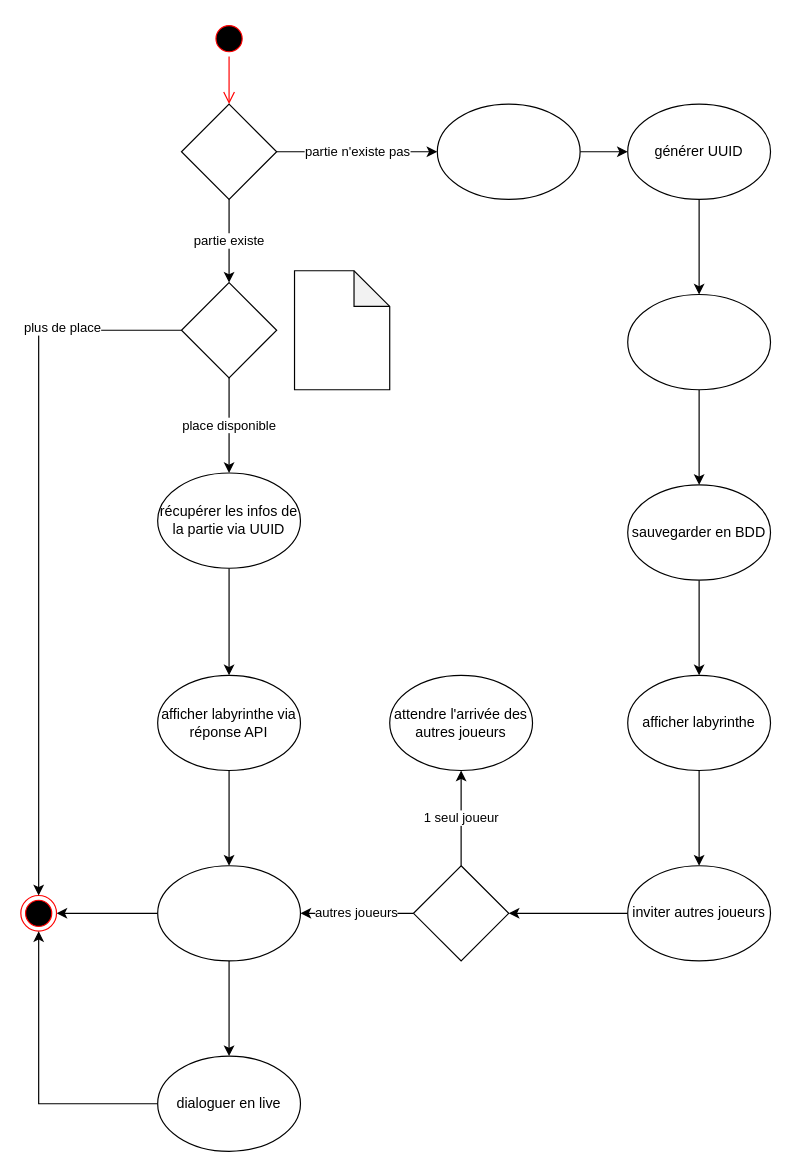
Some shapes in this 791 by 1172 pixel diagram are drawn without their labels. Each missing label, with the centre of its shape:
"créer partie (API)" belongs at [508,151].
"déterminer si nombre de places limitées" belongs at [341,330].
"générer labyrinthe" belongs at [699,341].
"jouer en live" belongs at [228,913].
